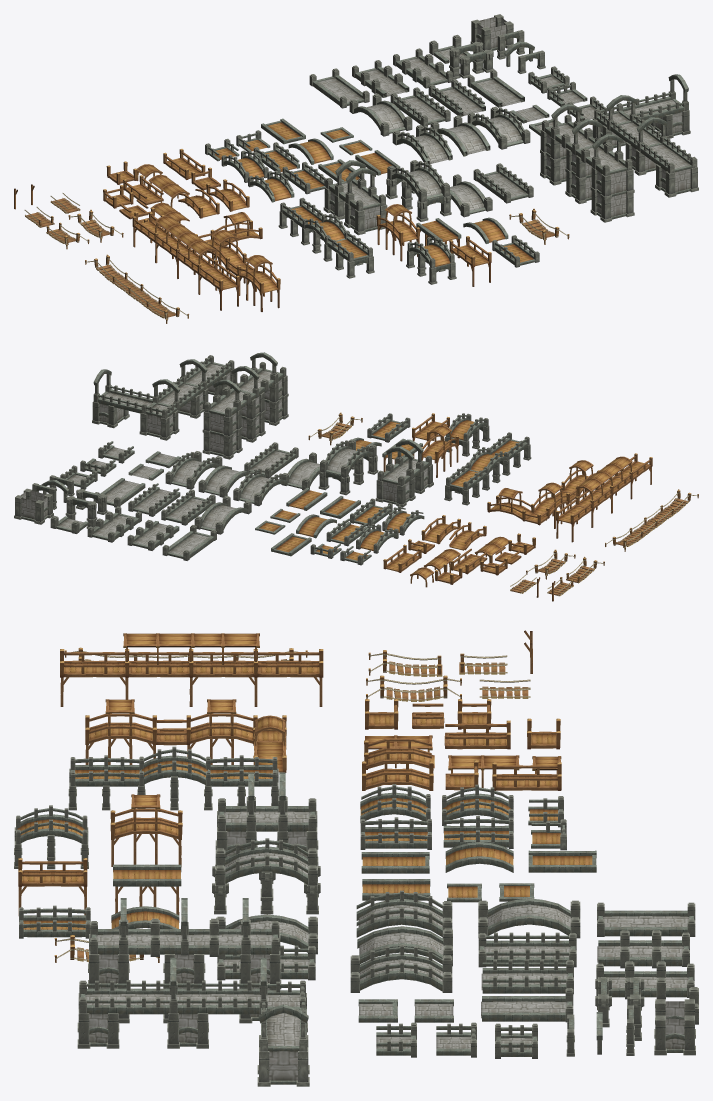
File: tileable.obj
The picture shows the model from 3 angles, top to bottom: view 1: azimuth 30°, elevation 25°; view 2: azimuth 150°, elevation 25°; view 3: azimuth 270°, elevation 25°; orthographic projection. The views are drawn at different scales.
Parts seen in each view (by area): view 1: bridge_4_screen_01, bridge_02_4screen_09, bridge_02_4screen_06, bridge_02_4screen_01, bridge_02_4screen_03, b1, b2, b9, bridge_04a_02, bridge_02_4screen_08, bridge_04a_tile_08, bridge_04a (+34 smaller); view 2: bridge_02_4screen_09, bridge_4_screen_01, bridge_02_4screen_01, bridge_02_4screen_06, b1, bridge_02_4screen_03, b2, bridge_04a_02, bridge_02_4screen_08, b9, bridge_04a_tile_08, bridge_04c_downside (+35 smaller); view 3: bridge_02_4screen_09, bridge_4_screen_01, bridge_02_4screen_01, bridge_02_4screen_06, bridge_02_4screen_03, b2, b1, bridge_04a_02, bridge_04a_tile_08, bridge_04a, bridge_04b_tile_03, bridge_04b_02 (+41 smaller).
Part boxes in pixels (<box>): bridge_4_screen_01: <box>540,104,634,222</box>; bridge_02_4screen_09: <box>592,74,698,197</box>; bridge_02_4screen_06: <box>278,197,374,278</box>; bridge_02_4screen_01: <box>132,212,239,310</box>; bridge_02_4screen_03: <box>195,212,280,311</box>; b1: <box>323,160,387,235</box>; b2: <box>385,160,451,221</box>; b9: <box>406,236,456,284</box>; bridge_04a_02: <box>467,106,530,149</box>; bridge_02_4screen_08: <box>85,254,188,323</box>; bridge_04a_tile_08: <box>392,125,452,164</box>; bridge_04a: <box>349,93,412,136</box>; bridge_02_4screen_09: <box>92,355,234,440</box>; bridge_4_screen_01: <box>202,352,288,459</box>; bridge_02_4screen_01: <box>555,453,652,542</box>; bridge_02_4screen_06: <box>444,432,531,505</box>; b1: <box>375,439,433,507</box>; bridge_02_4screen_03: <box>487,460,599,528</box>; b2: <box>318,439,378,495</box>; bridge_04a_02: <box>165,451,222,489</box>; bridge_02_4screen_08: <box>605,489,698,551</box>; b9: <box>445,413,490,456</box>; bridge_04a_tile_08: <box>233,468,287,506</box>; bridge_04c_downside: <box>14,488,53,524</box>; bridge_02_4screen_09: <box>77,957,309,1086</box>; bridge_4_screen_01: <box>88,898,281,1023</box>; bridge_02_4screen_01: <box>60,633,323,706</box>; bridge_02_4screen_06: <box>68,746,279,810</box>; bridge_02_4screen_03: <box>85,699,286,772</box>; b2: <box>212,838,320,914</box>; b1: <box>215,772,318,865</box>; bridge_04a_02: <box>350,945,452,992</box>; bridge_04a_tile_08: <box>356,890,452,938</box>; bridge_04a: <box>478,898,580,938</box>; bridge_04b_tile_03: <box>481,959,573,994</box>; bridge_04b_02: <box>478,932,576,967</box>.
Size of the model in its own units: 62.45 by 8.62 by 42.15.
1 material, 1 textured.
